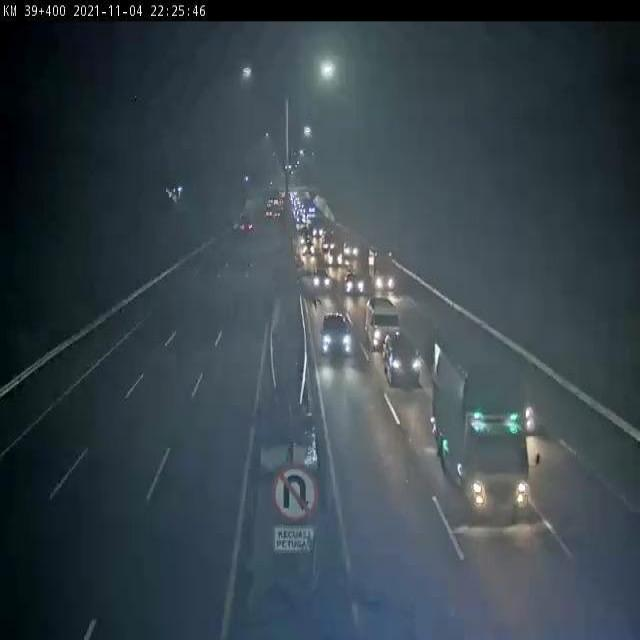car: (316, 307, 356, 380), (385, 333, 424, 398), (365, 303, 406, 349), (231, 209, 261, 243), (341, 269, 371, 299), (310, 266, 334, 298), (340, 236, 366, 263)
truck-m-: (433, 340, 540, 535)
truck-s-: (518, 375, 559, 453), (372, 249, 397, 295)
